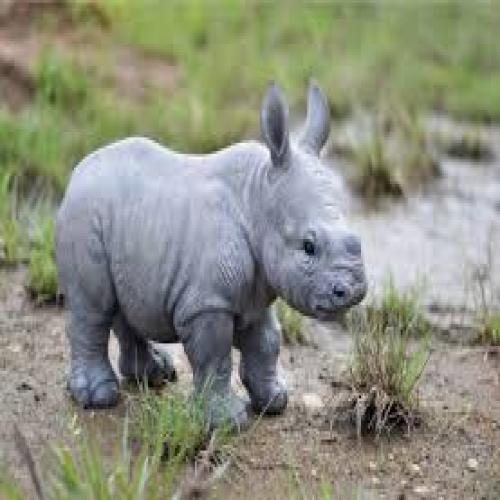rhino-endangered: (57, 77, 369, 435)
